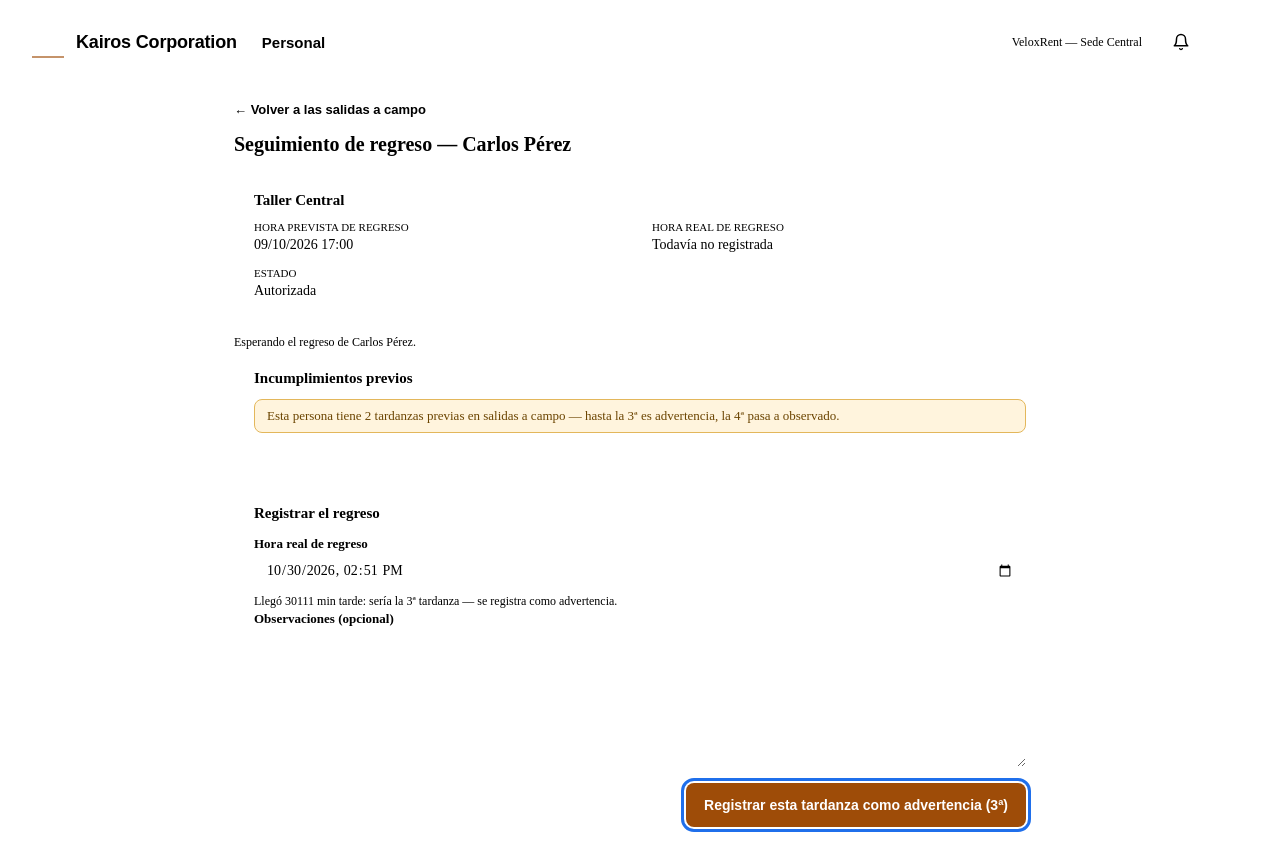
ReturnFollowUpScreen (ADP-08) › 3ª tardanza: advertencia; foco en el boton de accion
The width and height of the screenshot is (1280, 864).
Replace the text in the field labelled "Hora real de regreso" with "2026-10-09T17:45": (640, 571) [254,552,1026,590]
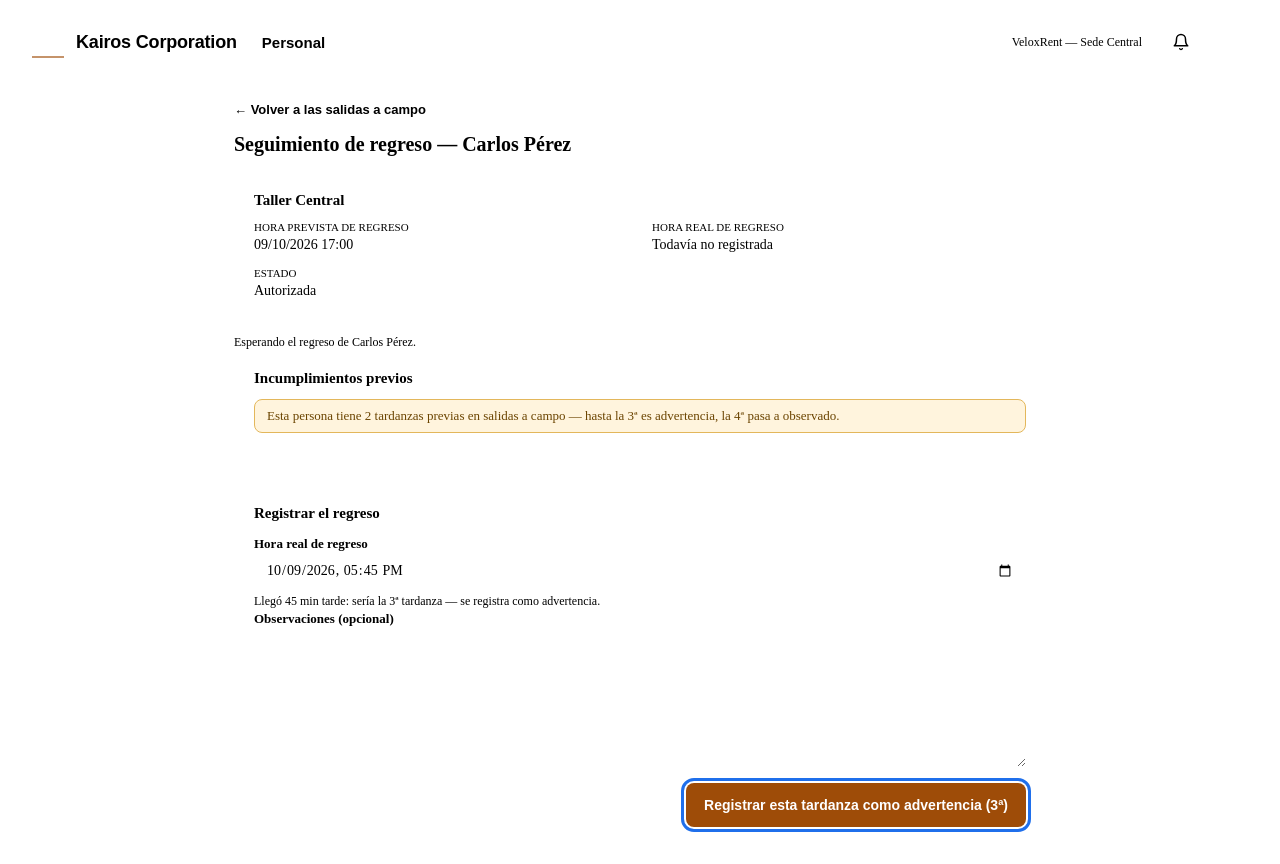
Now the text "Llegó 45 min tarde: sería la 3ª tardanza — se registra como advertencia." is shown, box [254,594,600,608]
